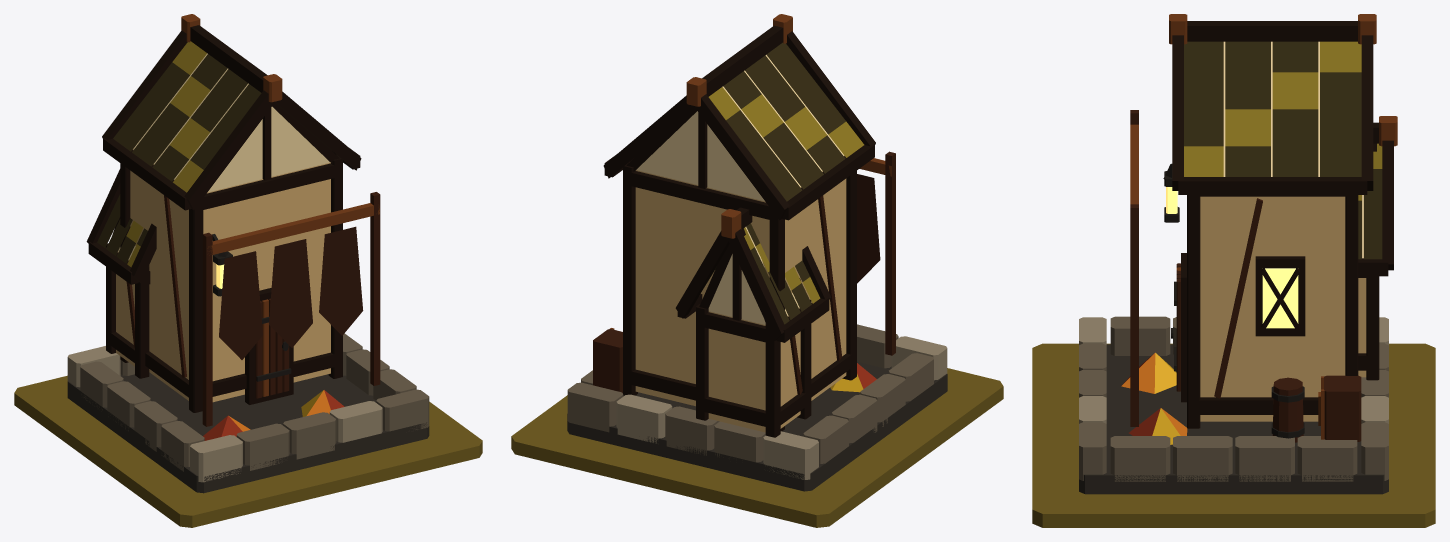
Rendered from tannery_t5.glb.
The picture shows the model from 3 angles, left to right: view 1: azimuth 30°, elevation 25°; view 2: azimuth 150°, elevation 25°; view 3: azimuth 270°, elevation 25°; orthographic projection. The views are drawn at different scales.
Parts seen in each view (by area): view 1: MMR | tannery | T05 Architecture.001, MMR | tannery | Tier 05 Ground.001, MMR | tannery | T05 Autumn Dressing.001; view 2: MMR | tannery | T05 Architecture.001, MMR | tannery | Tier 05 Ground.001, MMR | tannery | T05 Autumn Dressing.001; view 3: MMR | tannery | T05 Architecture.001, MMR | tannery | Tier 05 Ground.001, MMR | tannery | T05 Autumn Dressing.001.
Part boxes in pixels (x1,y1,x2,y2): MMR | tannery | T05 Architecture.001: [67, 14, 429, 493]; MMR | tannery | Tier 05 Ground.001: [14, 375, 482, 527]; MMR | tannery | T05 Autumn Dressing.001: [203, 390, 344, 440]; MMR | tannery | T05 Architecture.001: [567, 14, 947, 491]; MMR | tannery | Tier 05 Ground.001: [511, 368, 1003, 527]; MMR | tannery | T05 Autumn Dressing.001: [830, 363, 876, 392]; MMR | tannery | T05 Architecture.001: [1079, 14, 1397, 494]; MMR | tannery | Tier 05 Ground.001: [1032, 343, 1435, 527]; MMR | tannery | T05 Autumn Dressing.001: [1121, 352, 1187, 444].
Bounding box in the file's own units: 1.3 × 1.51 × 1.3.
Materials: 2 (1 with a texture image).
